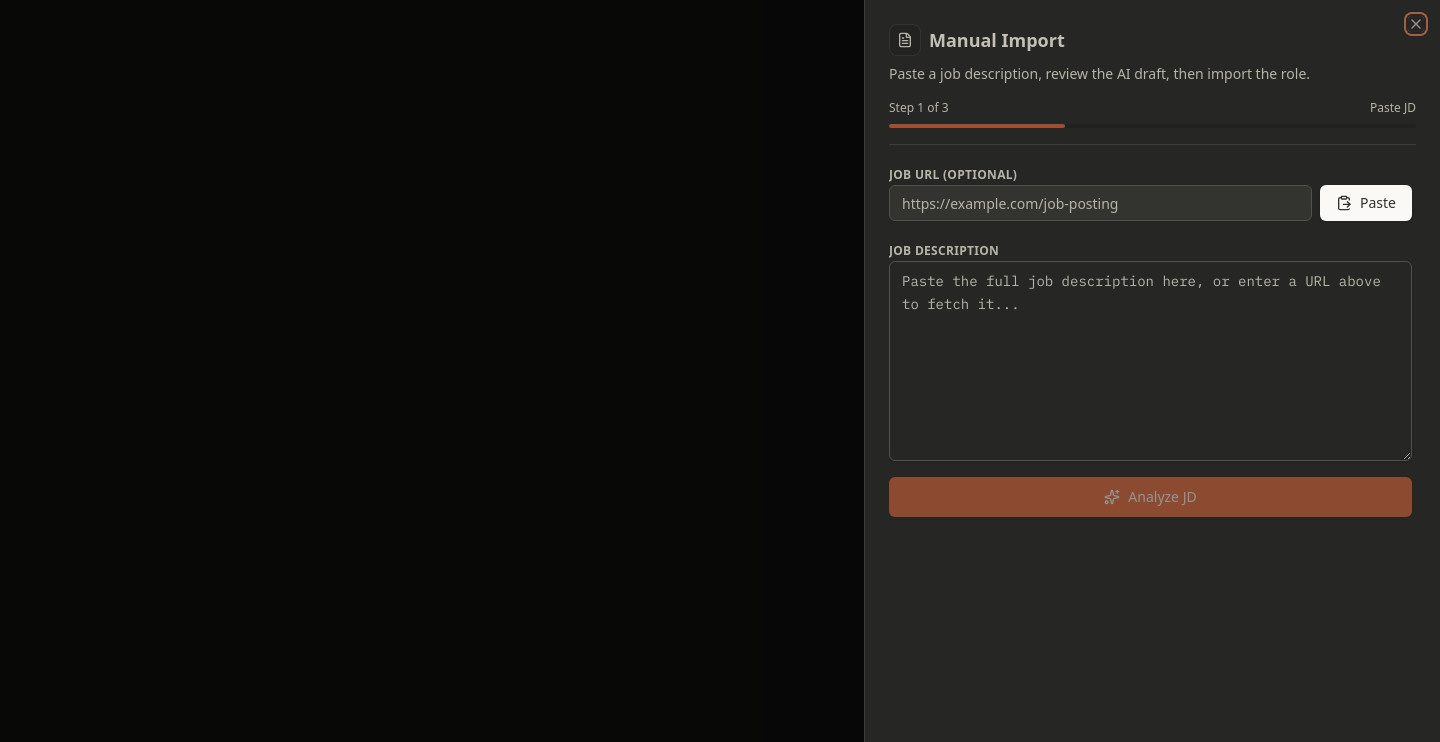
ManualImportSheet › URL fetch functionality › fetches URL and proceeds to review on successful fetch
# Enter a URL
Type "https://example.com/job" into the field with placeholder "https://example.com/job-posting" at (1100, 203), box x1=889 y1=185 x2=1312 y2=221
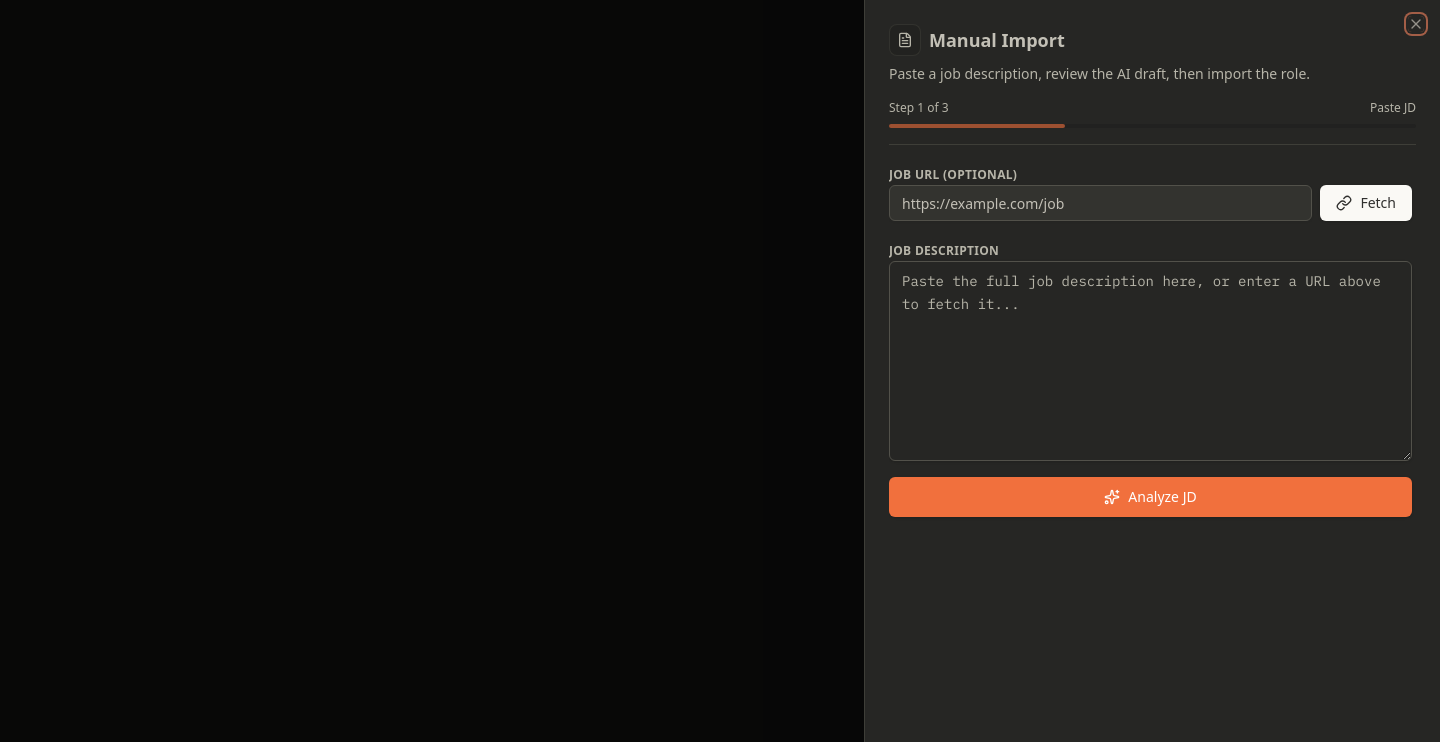
# Click Fetch
Click the button "Fetch" at (1366, 203), box x1=1320 y1=185 x2=1412 y2=221
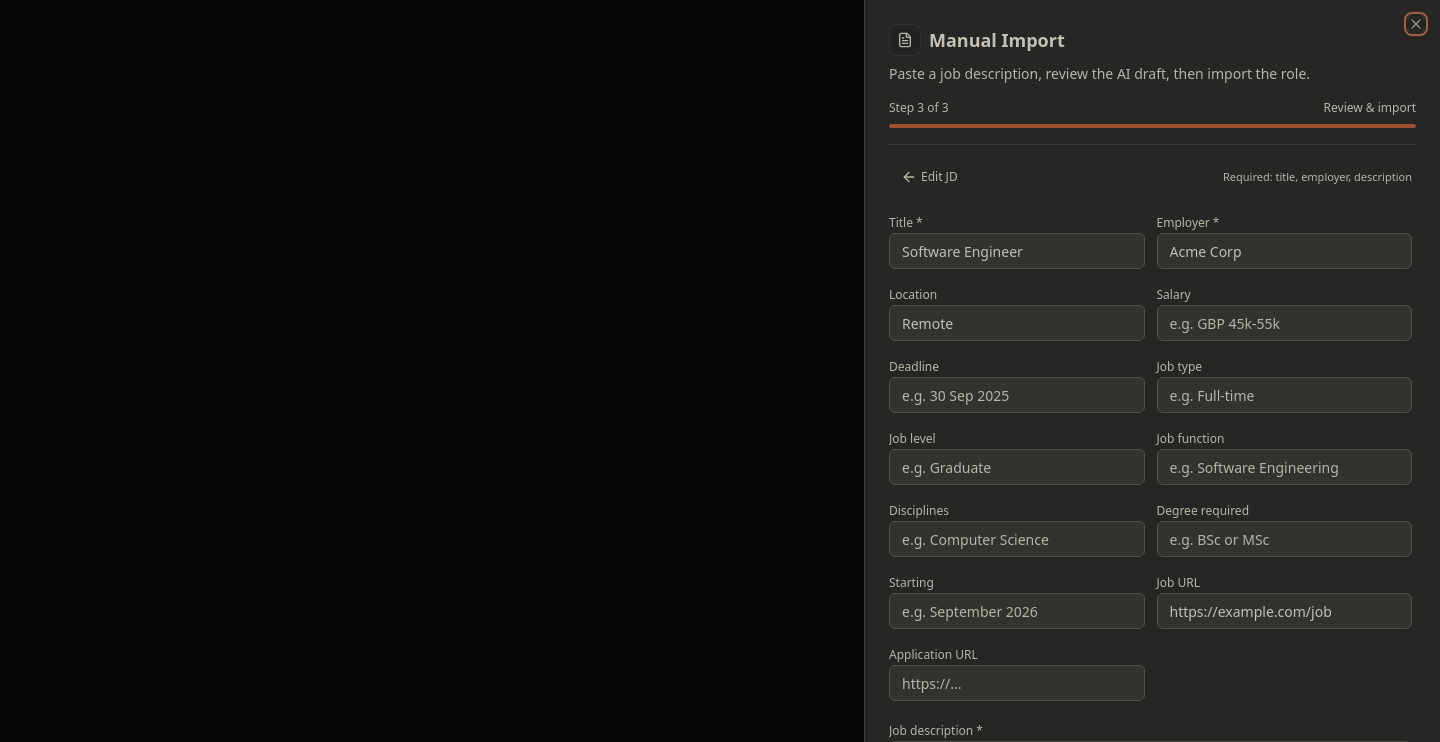
Expected: the field with placeholder "e.g. Junior Backend Engineer" holds "Software Engineer", x1=889 y1=233 x2=1144 y2=269
Expected: the field with placeholder "e.g. Acme Labs" holds "Acme Corp", x1=1156 y1=233 x2=1412 y2=269
